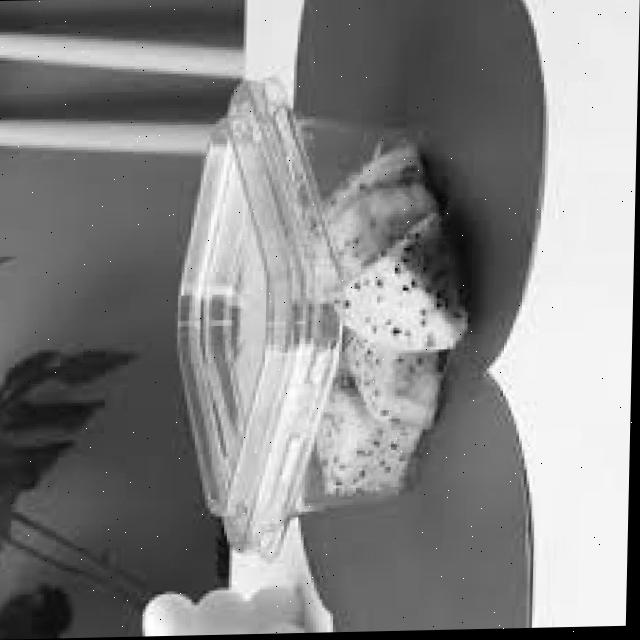disposable: (134, 69, 482, 545)
